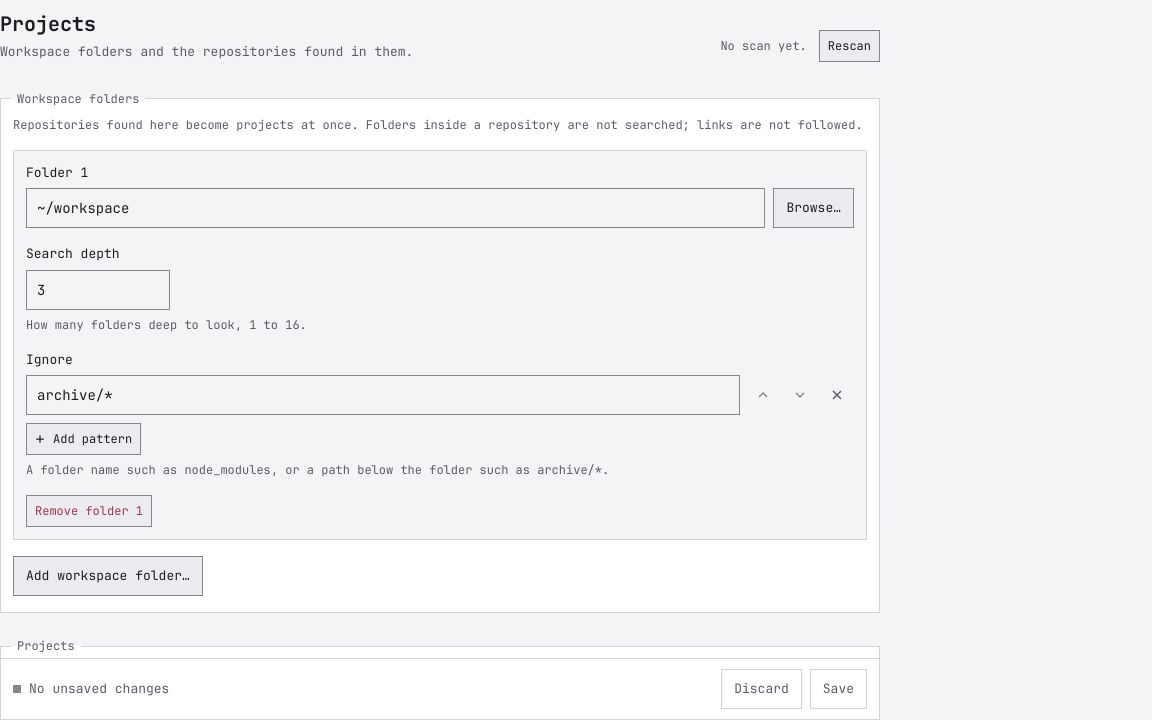
it: adding opens the picker; a new folder starts with the default ignore patterns; Save sends only workspace_roots with the revision
Click the button "Add workspace folder…". click: x=108, y=576
box: [13, 556, 203, 596]
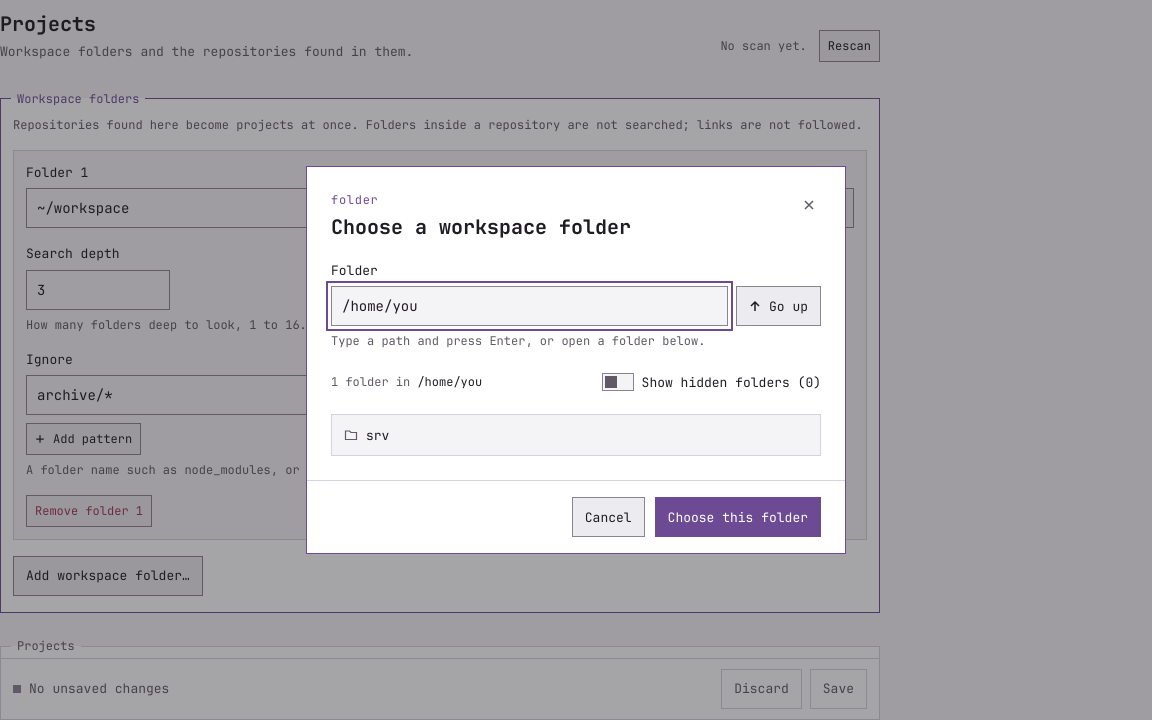
Click the button "srv". click: x=351, y=435
box: [332, 415, 820, 455]
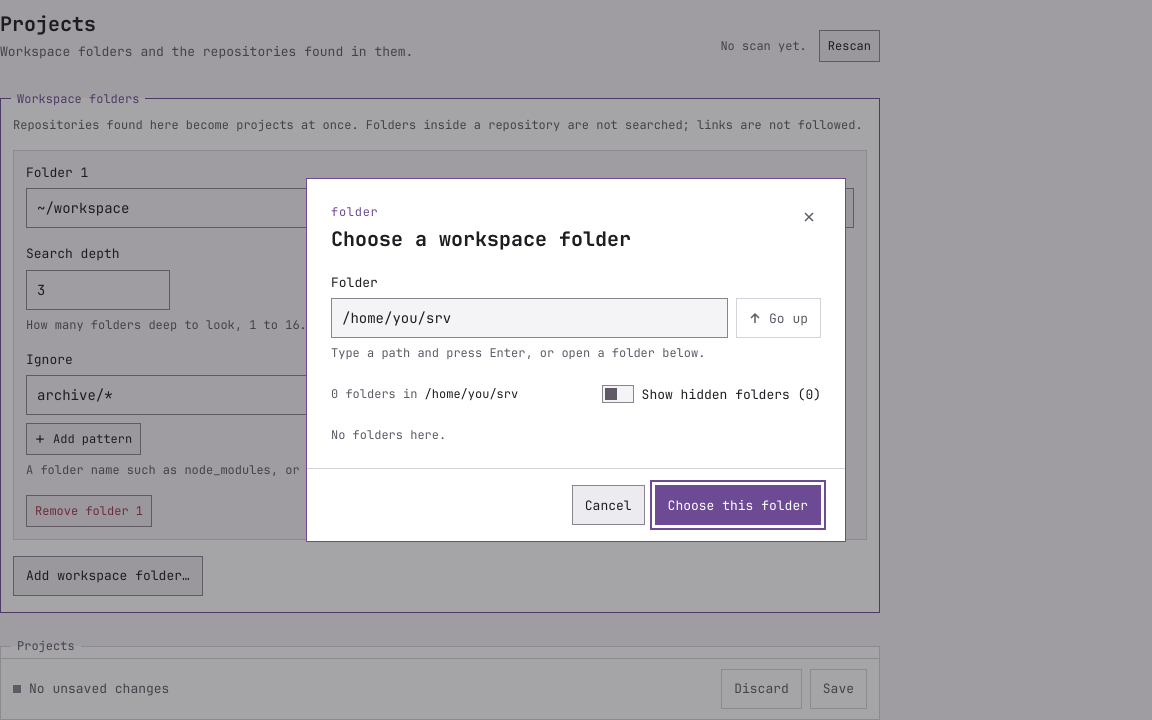
Click the button "Choose this folder". click: x=738, y=505
box: [655, 485, 821, 525]
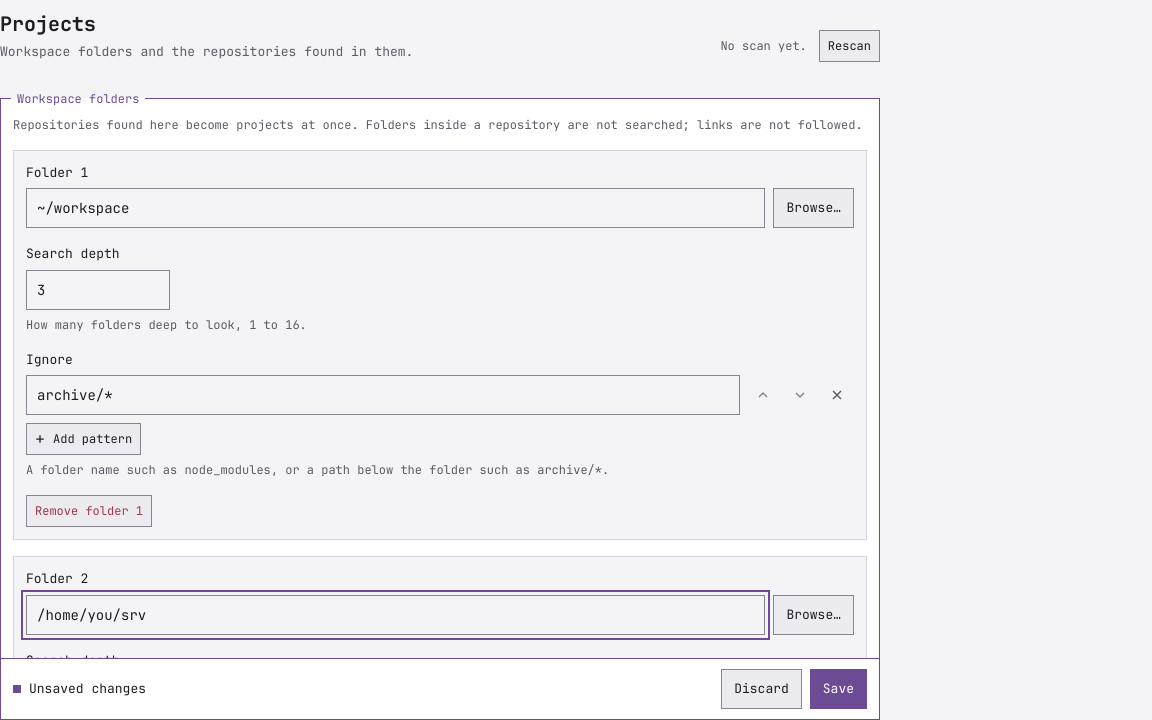
Expected: the 2nd number field labelled "Search depth" holds "4", [26, 676, 170, 716]
Click the button "Save". click: x=838, y=689
box: [810, 669, 867, 709]
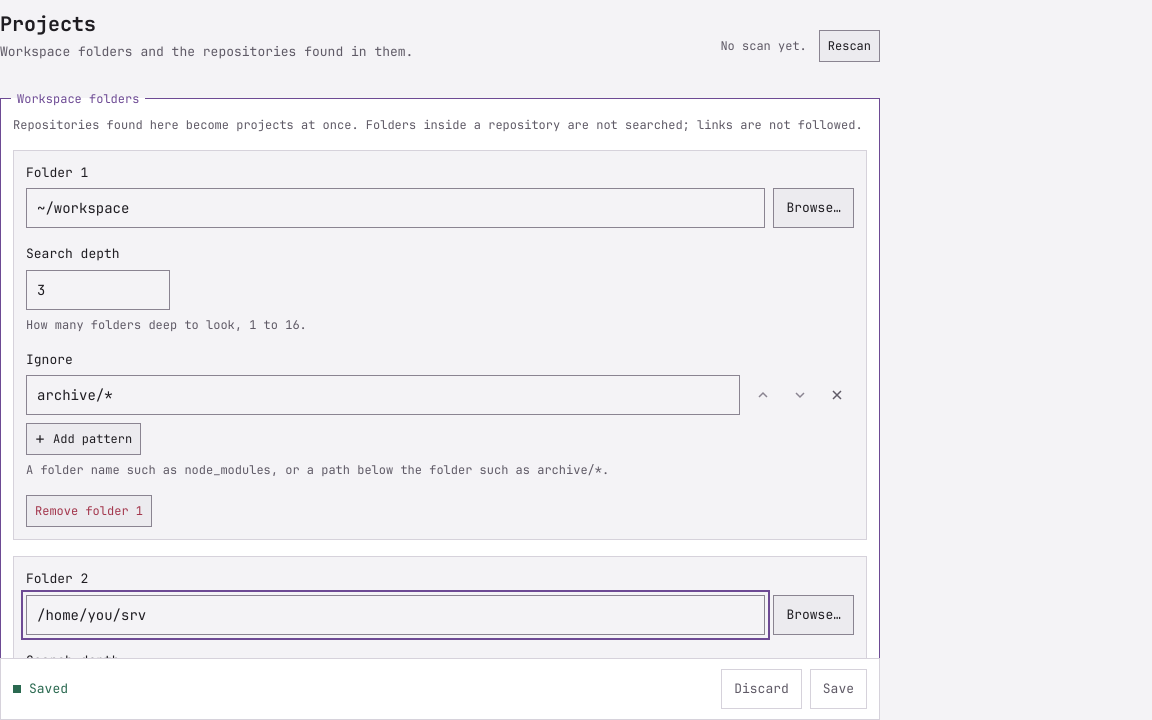
Expected: the element showing "Saved" is shown, [13, 680, 68, 697]
